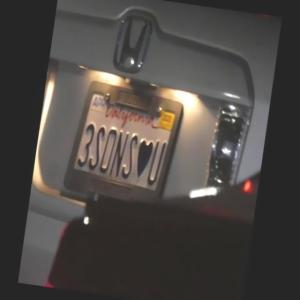Plate: (63, 82, 176, 209)
